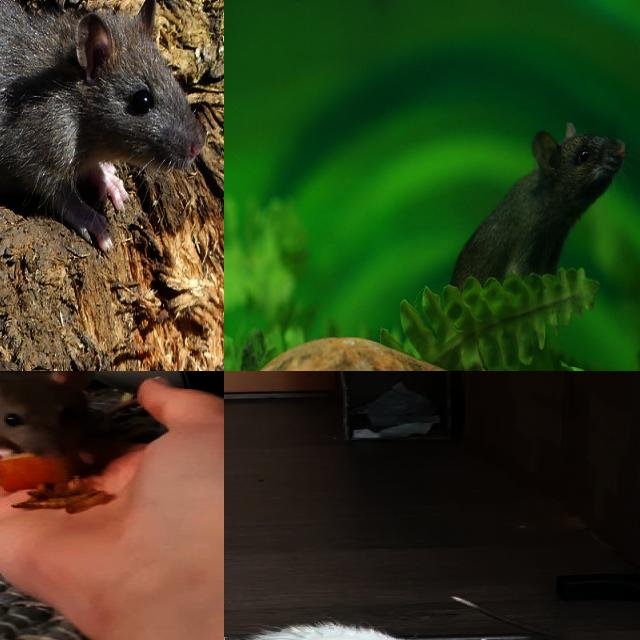rat: (0, 0, 206, 251), (460, 126, 622, 312), (0, 371, 104, 466)
